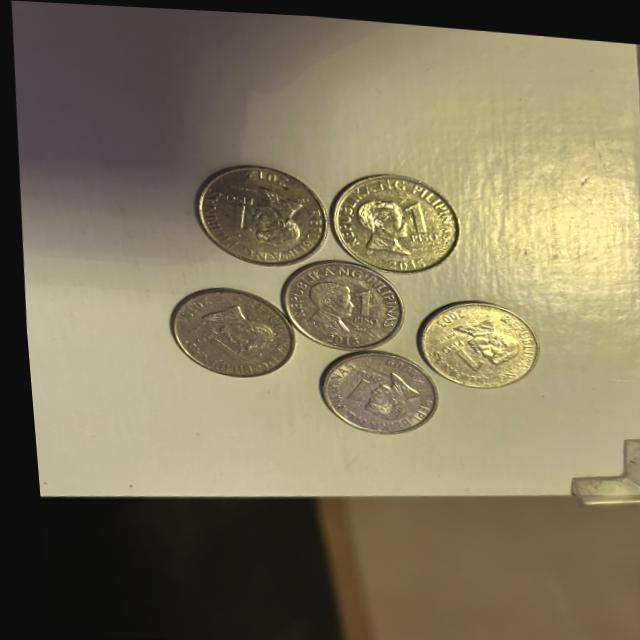1_Old_Front: (186, 319, 243, 361), (212, 183, 253, 233), (335, 280, 379, 323), (435, 330, 484, 368), (397, 194, 437, 238), (334, 368, 377, 400)
